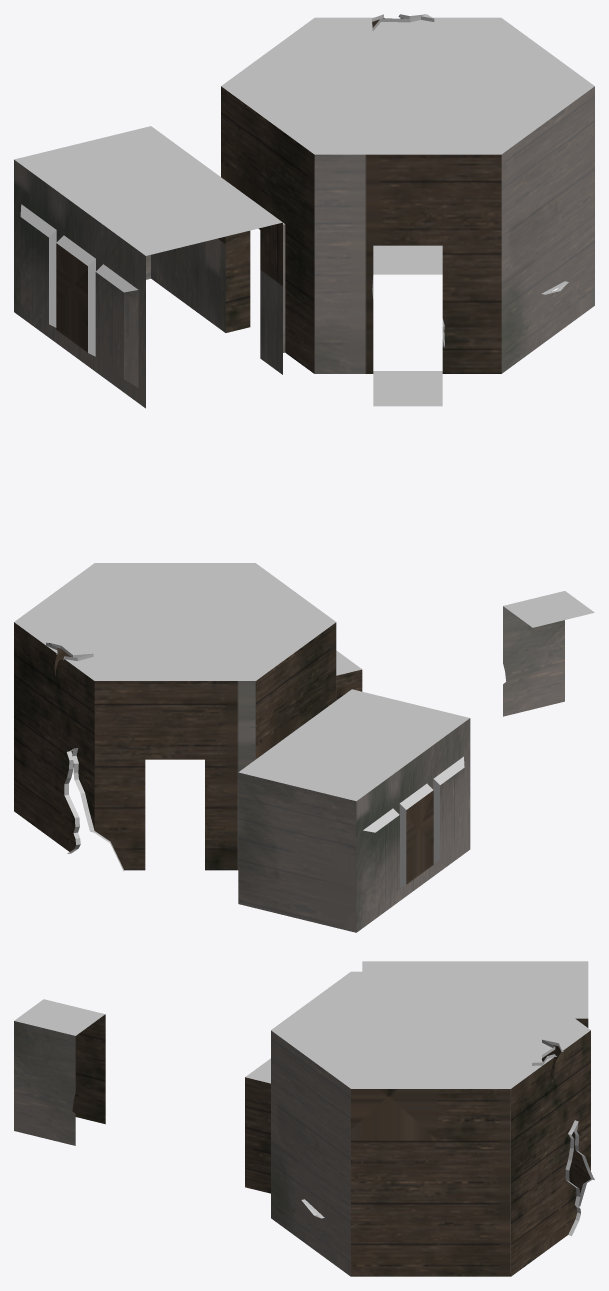
Rendered from Chamber1W.fbx.
The picture shows the model from 3 angles, top to bottom: view 1: azimuth 30°, elevation 25°; view 2: azimuth 150°, elevation 25°; view 3: azimuth 270°, elevation 25°; orthographic projection. The views are drawn at different scales.
Parts seen in each view (by area): view 1: C1WC, Chamber_1W.013, Chamber_1W.021, Chamber_1W.007, Chamber_1W.014, Chamber_1W.005, Chamber_1W.008, Chamber_1W.002; view 2: C1WC, Chamber_1W.019, Chamber_1W.006, Chamber_1W.010, Chamber_1W.007, Chamber_1W.014, Chamber_1W.017, Chamber_1W.008, Chamber_1W.020, Chamber_1W.015; view 3: C1WC, Chamber_1W.011, Chamber_1W.021, Chamber_1W.010, Chamber_1W.017, Chamber_1W.018, Chamber_1W.022, Chamber_1W.019, Chamber_1W.020.
Boxes of the visible parts, x1,y1,x2,y2 form: C1WC: (14,14,594,406); Chamber_1W.013: (314,154,501,373); Chamber_1W.021: (501,86,594,373); Chamber_1W.007: (14,160,145,408); Chamber_1W.014: (221,86,314,373); Chamber_1W.005: (151,222,282,374); Chamber_1W.008: (20,204,138,356); Chamber_1W.002: (225,230,250,332); C1WC: (14,563,594,801); Chamber_1W.019: (94,681,255,870); Chamber_1W.006: (238,772,356,932); Chamber_1W.010: (14,622,94,851); Chamber_1W.007: (356,718,470,932); Chamber_1W.014: (255,622,336,759); Chamber_1W.017: (503,606,564,716); Chamber_1W.008: (363,756,464,887); Chamber_1W.020: (64,748,94,853); Chamber_1W.015: (336,669,362,700); C1WC: (14,961,590,1088); Chamber_1W.011: (351,1089,510,1276); Chamber_1W.021: (271,1030,350,1276); Chamber_1W.010: (511,1030,590,1276); Chamber_1W.017: (14,1021,75,1145); Chamber_1W.018: (72,1014,105,1124); Chamber_1W.022: (245,1077,270,1193); Chamber_1W.019: (542,1045,590,1193); Chamber_1W.020: (565,1120,594,1236).
Size of the model in its own units: 2297 by 1088 by 2999.
